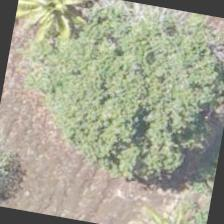Kelapa_Sawit: (12, 0, 101, 49), (136, 183, 212, 223)
